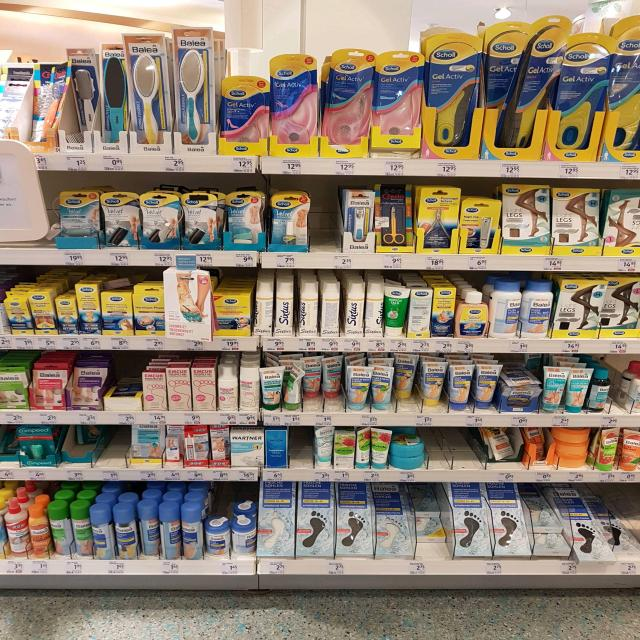empty: (428, 430, 480, 468), (309, 192, 342, 251), (103, 425, 129, 465), (290, 426, 314, 468)
